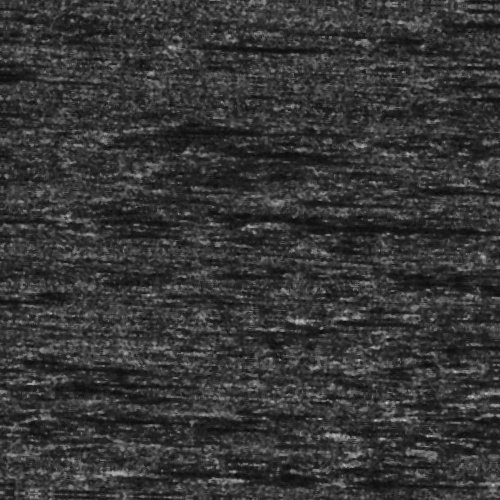object: (385, 10, 468, 21), (118, 468, 181, 477), (226, 219, 279, 228), (260, 196, 333, 201), (167, 42, 220, 47), (9, 383, 62, 388), (481, 377, 500, 390), (156, 126, 187, 133)
shadow: (253, 219, 500, 228), (150, 468, 327, 477), (172, 126, 382, 133), (36, 383, 201, 388), (427, 10, 500, 21), (297, 196, 443, 201), (194, 42, 336, 47), (329, 316, 439, 319), (0, 302, 48, 307)
